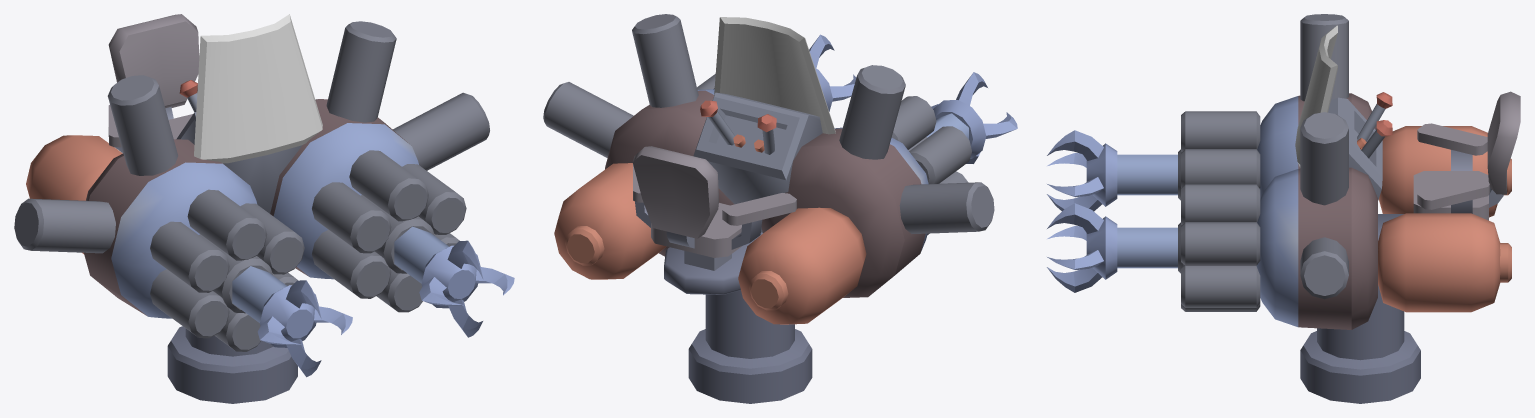
The model's file is Tesla_2_LP.fbx.
3 renders of one model, left to right at view 1: azimuth 30°, elevation 25°; view 2: azimuth 150°, elevation 25°; view 3: azimuth 270°, elevation 25°, orthographic. The views are drawn at different scales.
Visible parts, largest first — view 1: Tesla_2_Base, Tesla_2_Glass; view 2: Tesla_2_Base, Tesla_2_Glass, Tesla_2; view 3: Tesla_2_Base, Tesla_2_Glass, Tesla_2.
Boxes of the visible parts, <box> form: Tesla_2_Base: <box>14,14,514,403</box>; Tesla_2_Glass: <box>194,14,322,163</box>; Tesla_2_Base: <box>543,14,1017,403</box>; Tesla_2_Glass: <box>714,17,835,134</box>; Tesla_2: <box>700,100,776,154</box>; Tesla_2_Base: <box>1047,14,1520,403</box>; Tesla_2_Glass: <box>1295,25,1337,167</box>; Tesla_2: <box>1357,92,1392,158</box>.
Size of the model in its own units: 169 by 126 by 163.
